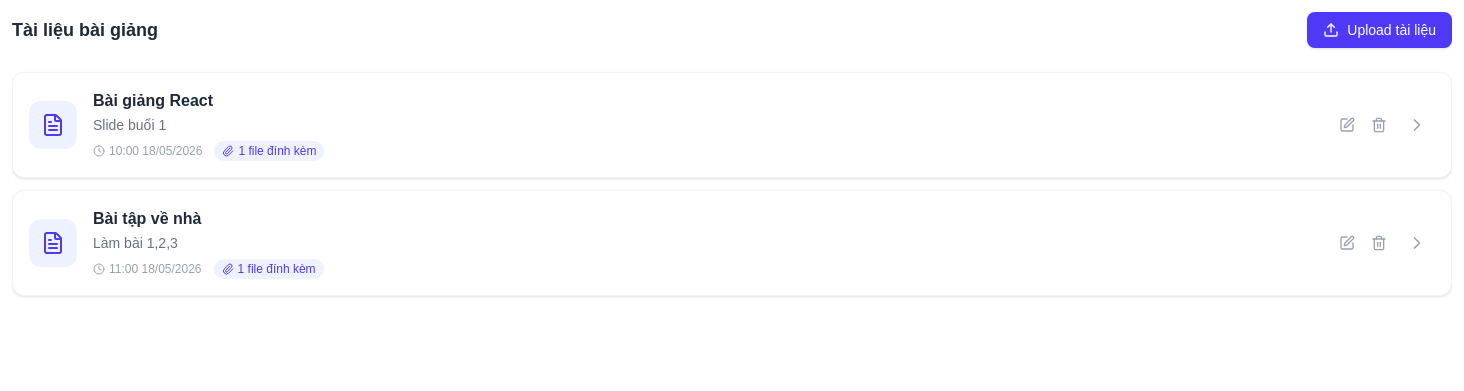
Scenario: TeacherDocumentsTab Component › hiển thị danh sách tài liệu thành công và hiển thị file khi click để mở rộng
Expected: the text "Slide buổi 1" is shown, [93, 117, 166, 133]
Expected: the heading "Bài tập về nhà" is shown, [93, 210, 202, 227]
# Click to expand first document
Click the heading "Bài giảng React" at (153, 100), box [93, 92, 213, 109]
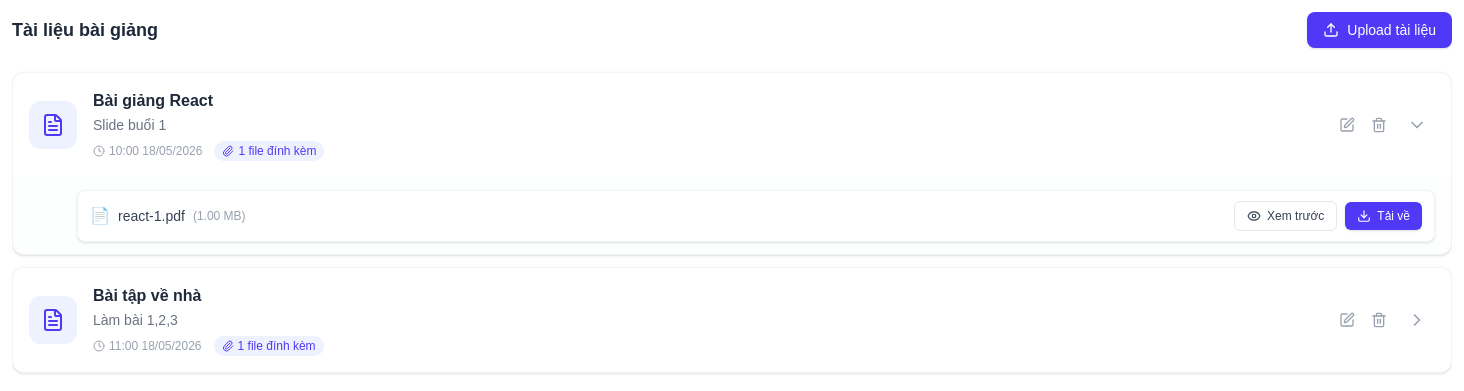
Expected: the text "react-1.pdf" is shown, [118, 206, 185, 226]
Expected: the text "(1.00 MB)" is shown, [193, 208, 246, 224]
Expected: the text "Xem trước" is shown, [1267, 208, 1324, 224]
